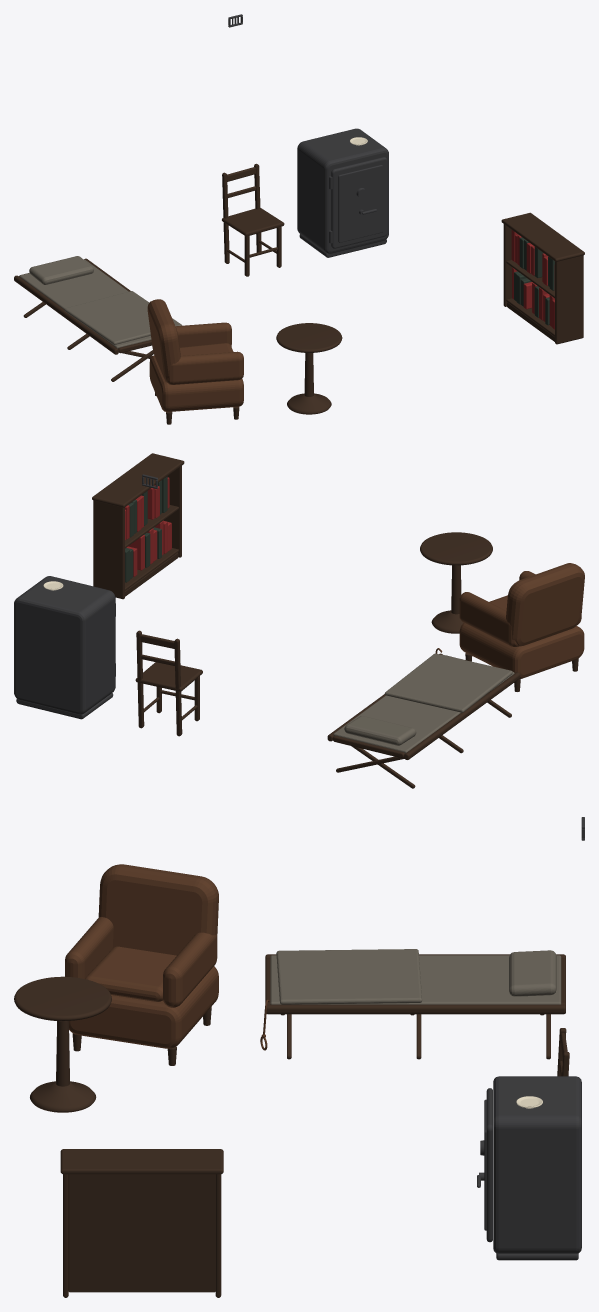
Rendered from roylott.glb.
3 views of the same model, one above another, from view 1: azimuth 30°, elevation 25°; view 2: azimuth 150°, elevation 25°; view 3: azimuth 270°, elevation 25° (orthographic). The views are drawn at different scales.
Visible parts, largest first — view 1: safe_carcass, bed_blanket, safe_door_inset, armchair_base, shelf_side_right, bed_canvas, armchair_arm_left, shelf_top, armchair_back, table_top, safe_door_panel, armchair_arm_right (+5 smaller); view 2: safe_carcass, armchair_back, bed_blanket, armchair_base, bed_canvas, shelf_side_left, shelf_top, table_top, armchair_arm_right, bed_pillow, chair_seat, bed_rail_left (+9 smaller); view 3: shelf_back, safe_carcass, armchair_back, bed_blanket, bed_canvas, armchair_base, shelf_top, table_top, bed_rail_right, armchair_cushion, armchair_arm_right, bed_pillow (+7 smaller).
Boxes of the visible parts, x1,y1,x2,y2 form: safe_carcass: [297, 128, 388, 253]; bed_blanket: [64, 291, 181, 344]; safe_door_inset: [338, 165, 382, 242]; armchair_base: [149, 355, 243, 411]; shelf_side_right: [555, 251, 583, 344]; bed_canvas: [19, 259, 151, 348]; armchair_arm_left: [166, 351, 243, 384]; shelf_top: [501, 212, 584, 261]; armchair_back: [147, 299, 180, 382]; table_top: [276, 323, 342, 352]; safe_door_panel: [331, 157, 387, 248]; armchair_arm_right: [175, 322, 231, 347]; safe_carcass: [14, 576, 115, 714]; armchair_back: [506, 563, 584, 646]; bed_blanket: [384, 653, 512, 712]; armchair_base: [459, 622, 584, 678]; bed_canvas: [333, 654, 514, 753]; shelf_side_left: [93, 496, 124, 599]; shelf_top: [92, 453, 184, 507]; table_top: [420, 532, 492, 565]; armchair_arm_right: [459, 592, 518, 646]; bed_pillow: [344, 716, 416, 745]; chair_seat: [135, 662, 202, 691]; bed_rail_left: [404, 672, 520, 759]; shelf_back: [68, 1174, 215, 1292]; safe_carcass: [493, 1076, 581, 1253]; armchair_back: [98, 864, 218, 955]; bed_blanket: [276, 949, 422, 1004]; bed_canvas: [270, 955, 561, 1004]; armchair_base: [69, 966, 218, 1048]; shelf_top: [60, 1149, 223, 1174]; table_top: [14, 976, 111, 1021]; bed_rail_right: [266, 1004, 565, 1014]; armchair_cushion: [85, 946, 176, 1001]; armchair_arm_right: [163, 932, 217, 1007]; bed_pillow: [509, 950, 556, 996].
Bounding box in the file's own units: 4.42 × 2.46 × 3.61.
